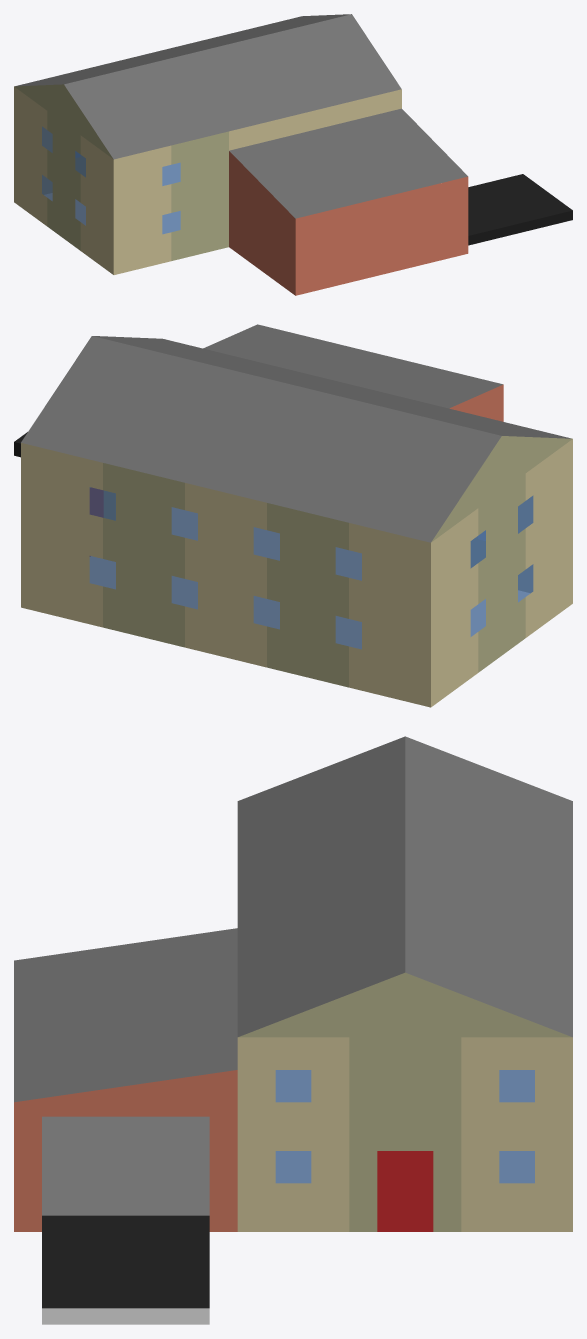
File: simplehouse4.dae
The picture shows the model from 3 angles, top to bottom: view 1: azimuth 30°, elevation 25°; view 2: azimuth 150°, elevation 25°; view 3: azimuth 270°, elevation 25°; orthographic projection. The views are drawn at different scales.
Parts seen in each view (by area): view 1: SketchUp (×12); view 2: SketchUp (×19); view 3: SketchUp (×14).
Part boxes in pixels (bbox=[...]): SketchUp (×12): bbox=[14, 14, 572, 295]; SketchUp (×19): bbox=[21, 324, 572, 707]; SketchUp (×14): bbox=[14, 736, 572, 1324].
Bounding box in the file's own units: 17.13 × 12.3 × 6.3.
